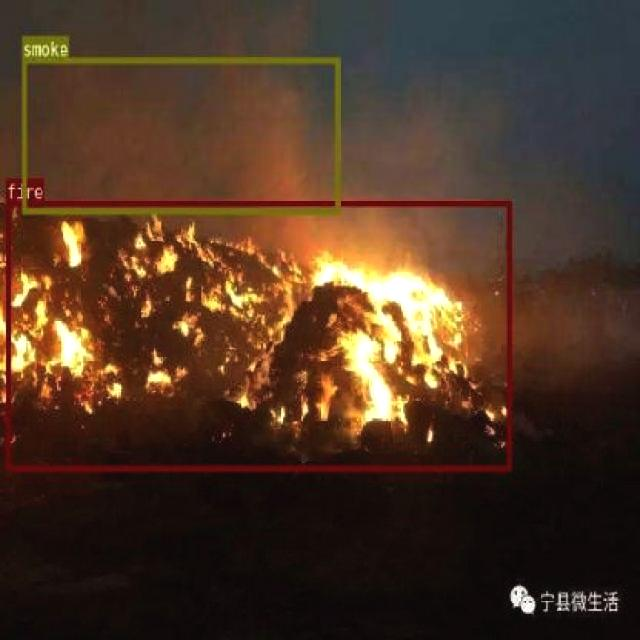fire: (4, 199, 510, 470)
smoke: (21, 56, 340, 213)
